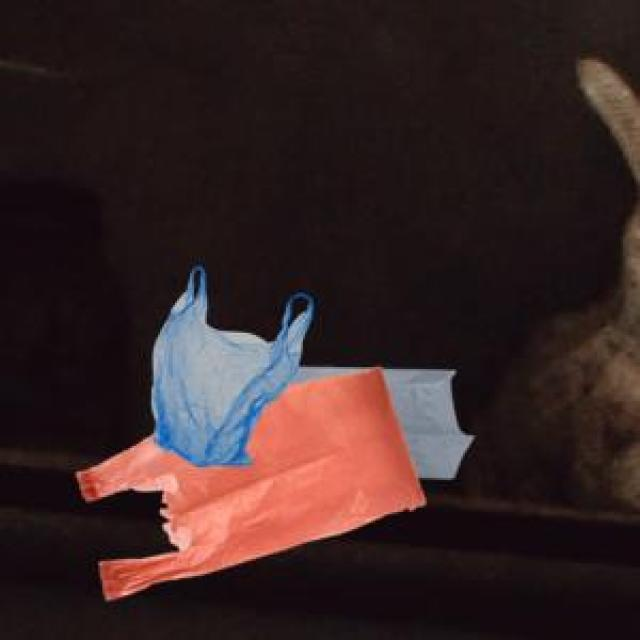plastic: (71, 256, 543, 603)
